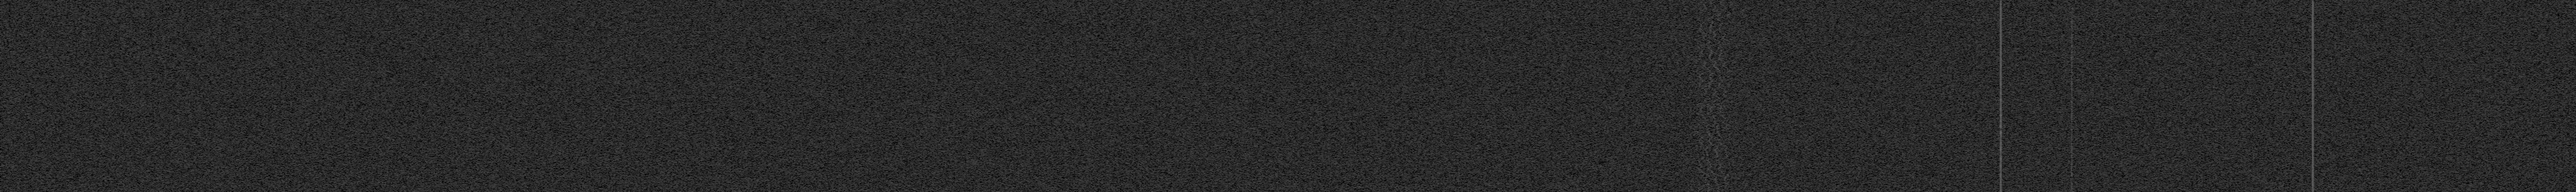wv_am: (1996, 0, 2006, 192)
wv_cw: (2308, 0, 2318, 192)
wv_usb: (2070, 5, 2075, 192)
wv_wbfm: (1715, 0, 1732, 192), (1705, 0, 1722, 192), (1695, 0, 1712, 192), (1725, 146, 1740, 187), (1687, 146, 1700, 187), (1687, 44, 1702, 72), (1727, 16, 1741, 44), (1687, 16, 1702, 44), (1689, 72, 1702, 103), (1727, 44, 1740, 72), (1728, 72, 1740, 103), (1725, 103, 1738, 130), (1687, 103, 1700, 130), (1725, 131, 1733, 146), (1687, 131, 1694, 146), (1728, 0, 1736, 11), (1689, 0, 1697, 11), (1733, 11, 1741, 16), (1694, 11, 1702, 16), (1687, 187, 1690, 192), (1738, 108, 1741, 112), (1679, 30, 1682, 33), (1738, 166, 1741, 167), (1741, 115, 1743, 117), (1687, 95, 1689, 97), (1740, 171, 1741, 172), (1745, 7, 1746, 8), (1686, 7, 1687, 8), (1740, 3, 1741, 5), (1682, 171, 1684, 172), (1681, 166, 1682, 167), (1740, 143, 1741, 144), (1681, 143, 1682, 144)
